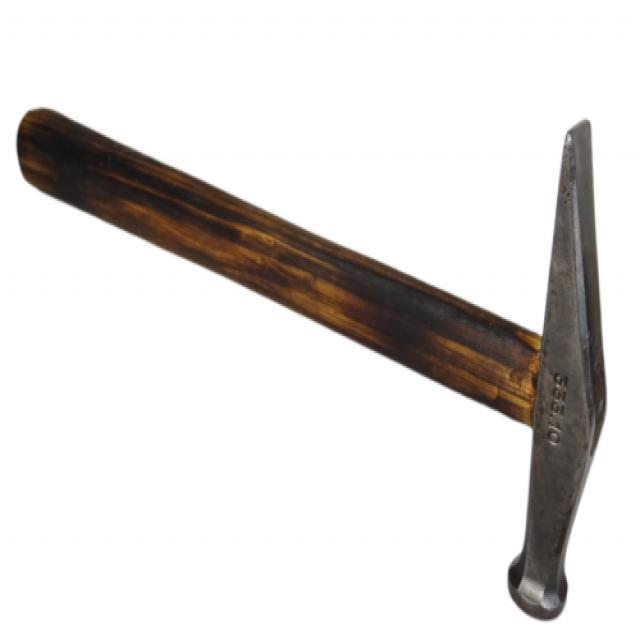hammer: (12, 98, 614, 626)
